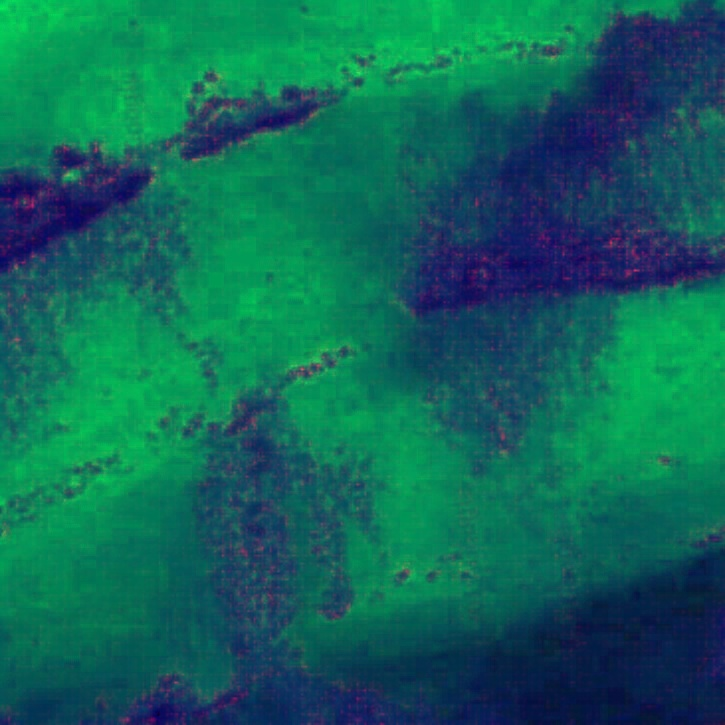rip_current: (176, 128, 574, 624)
